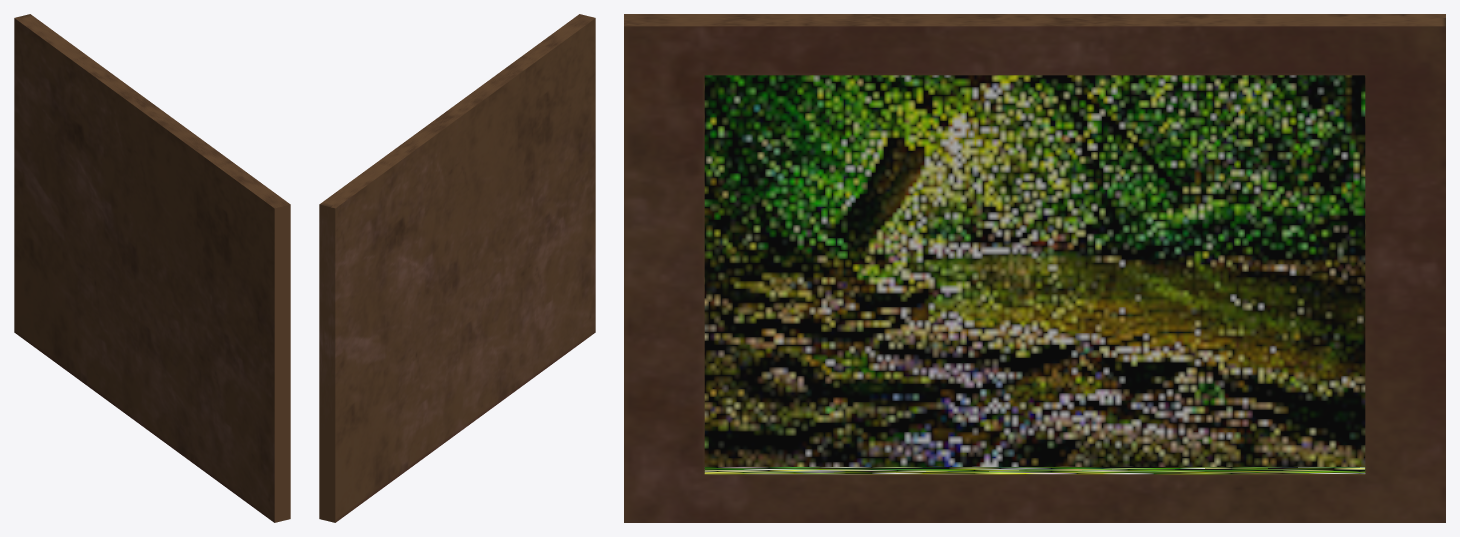
Rendered from quadro.glb.
3 views of the same model, side by side, from view 1: azimuth 30°, elevation 25°; view 2: azimuth 150°, elevation 25°; view 3: azimuth 270°, elevation 25° (orthographic). The views are drawn at different scales.
Visible parts, largest first — view 1: Cube.025; view 2: Cube.025; view 3: Cube.025.
Boxes of the visible parts, x1=… form: Cube.025: x1=14, y1=14, x2=290, y2=522; Cube.025: x1=319, y1=14, x2=595, y2=522; Cube.025: x1=624, y1=14, x2=1445, y2=522.
Bounding box in the file's own units: 0.0538 × 1 × 1.5.
2 materials, 2 textured.
